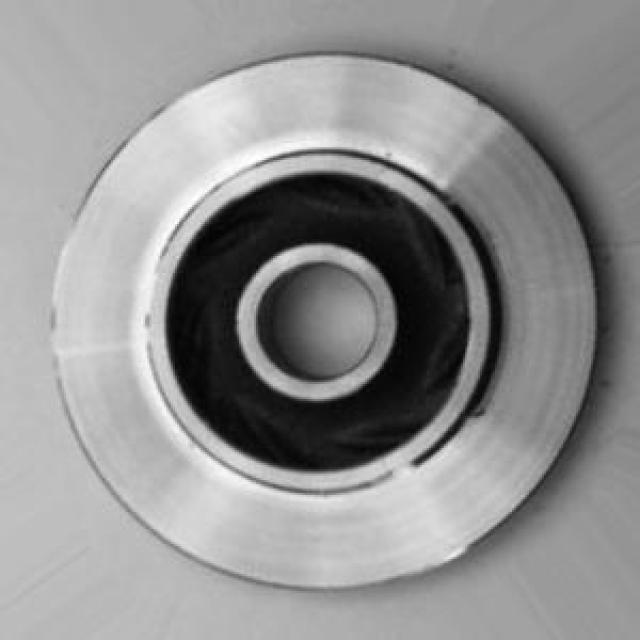Defect: (466, 391, 497, 426)
